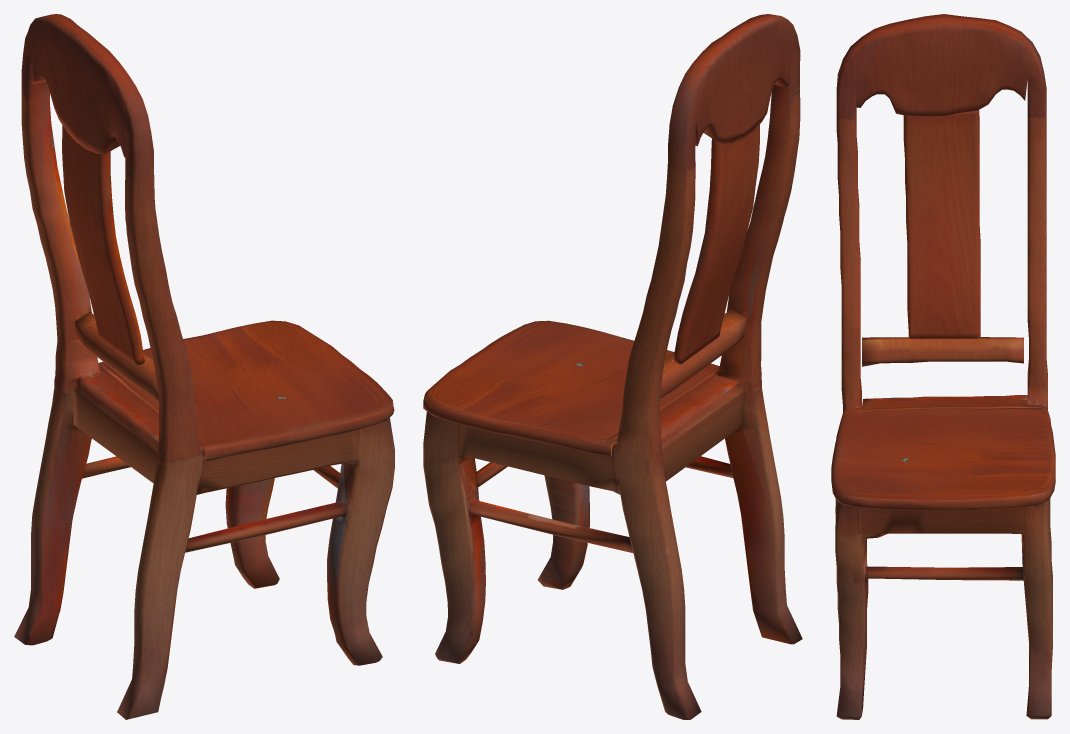
Rendered from KitchenChair.fbx.
The picture shows the model from 3 angles, left to right: view 1: azimuth 30°, elevation 25°; view 2: azimuth 150°, elevation 25°; view 3: azimuth 270°, elevation 25°; orthographic projection. The views are drawn at different scales.
Parts seen in each view (by area): view 1: Chair1; view 2: Chair1; view 3: Chair1.
Part boxes in pixels (x1=…): Chair1: x1=14, y1=14, x2=394, y2=719; Chair1: x1=423, y1=14, x2=802, y2=719; Chair1: x1=831, y1=14, x2=1055, y2=719.
Size of the model in its own units: 51.89 by 115 by 39.25.
